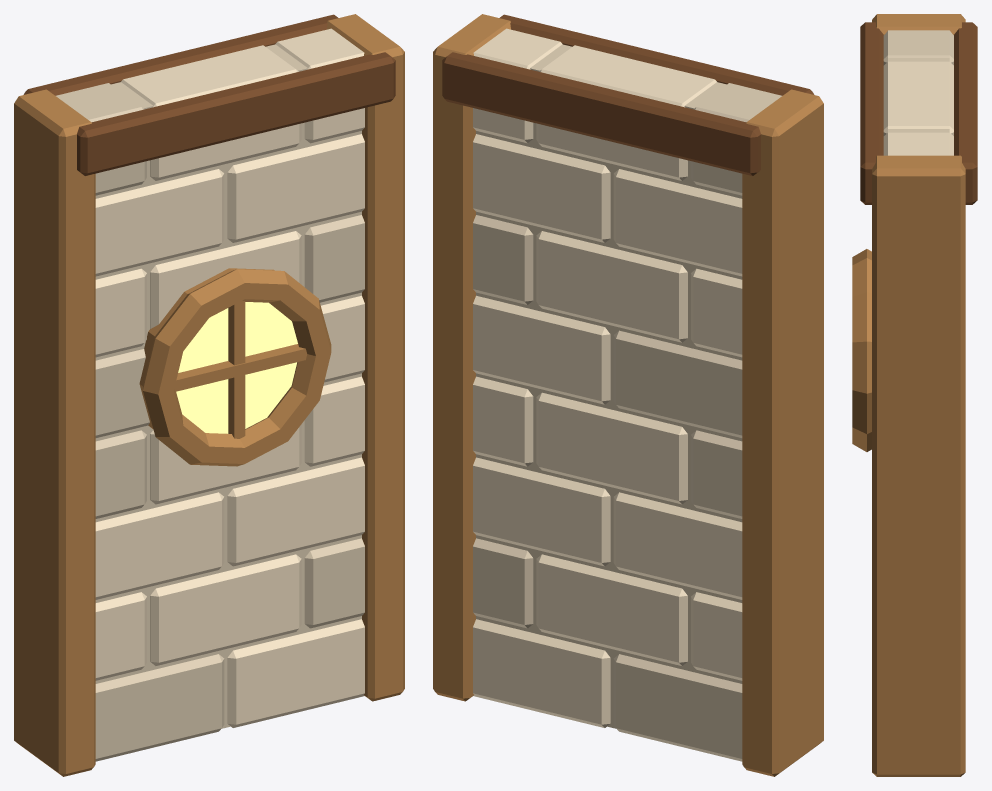
The model's file is mod_wall_straight_window_round_1m.glb.
3 views of the same model, side by side, from view 1: azimuth 30°, elevation 25°; view 2: azimuth 150°, elevation 25°; view 3: azimuth 270°, elevation 25° (orthographic). The views are drawn at different scales.
Parts seen in each view (by area): view 1: mod_wall_straight_window_round_1m; view 2: mod_wall_straight_window_round_1m; view 3: mod_wall_straight_window_round_1m.
Boxes of the visible parts, <box> form: mod_wall_straight_window_round_1m: <box>14,14,404,776</box>; mod_wall_straight_window_round_1m: <box>433,14,823,776</box>; mod_wall_straight_window_round_1m: <box>852,14,977,776</box>.
Bounding box in the file's own units: 1.12 × 2 × 0.3733.
